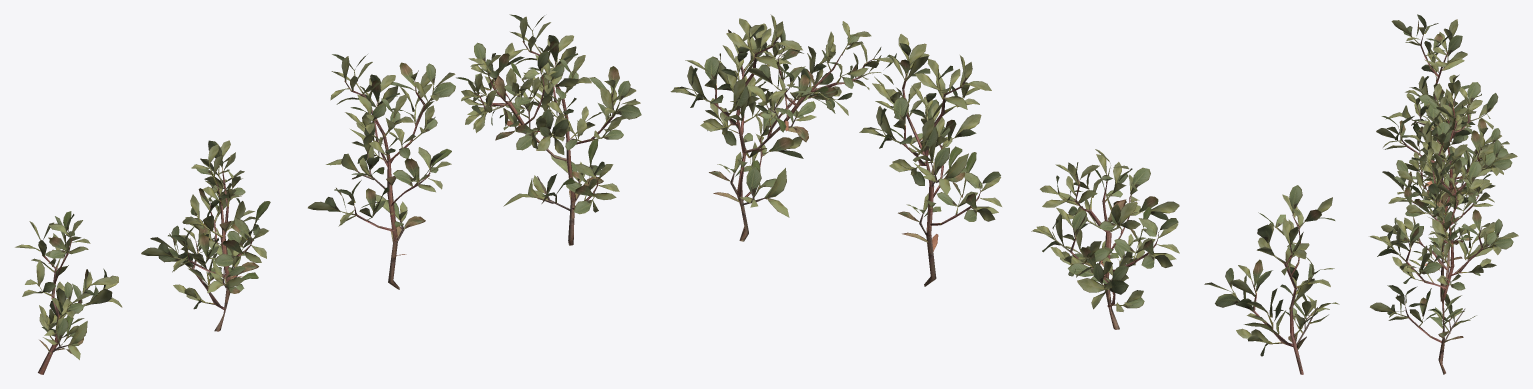
The model's file is shrub_04.glb.
3 renders of one model, left to right at view 1: azimuth 30°, elevation 25°; view 2: azimuth 150°, elevation 25°; view 3: azimuth 270°, elevation 25°, orthographic. The views are drawn at different scales.
Visible parts, largest first — view 1: shrub_04; view 2: shrub_04; view 3: shrub_04.
Part boxes in pixels (x1,y1,x2,y2): shrub_04: (15, 14, 641, 374); shrub_04: (670, 14, 1339, 374); shrub_04: (1369, 14, 1518, 374).
Size of the model in its own units: 0.5831 by 0.2186 by 0.1459.
Materials: 1 (1 with a texture image).
